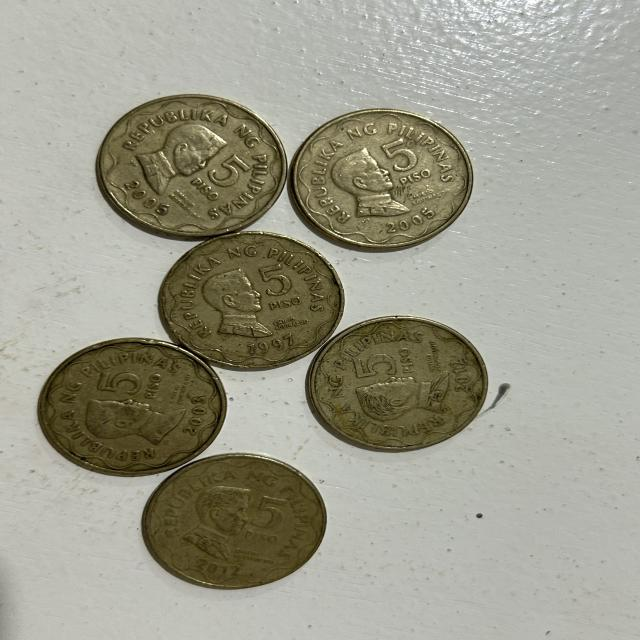5_Old_Front: (184, 152, 258, 208), (87, 364, 175, 410), (375, 132, 428, 193), (237, 482, 288, 544), (342, 348, 428, 383), (255, 264, 298, 321)
